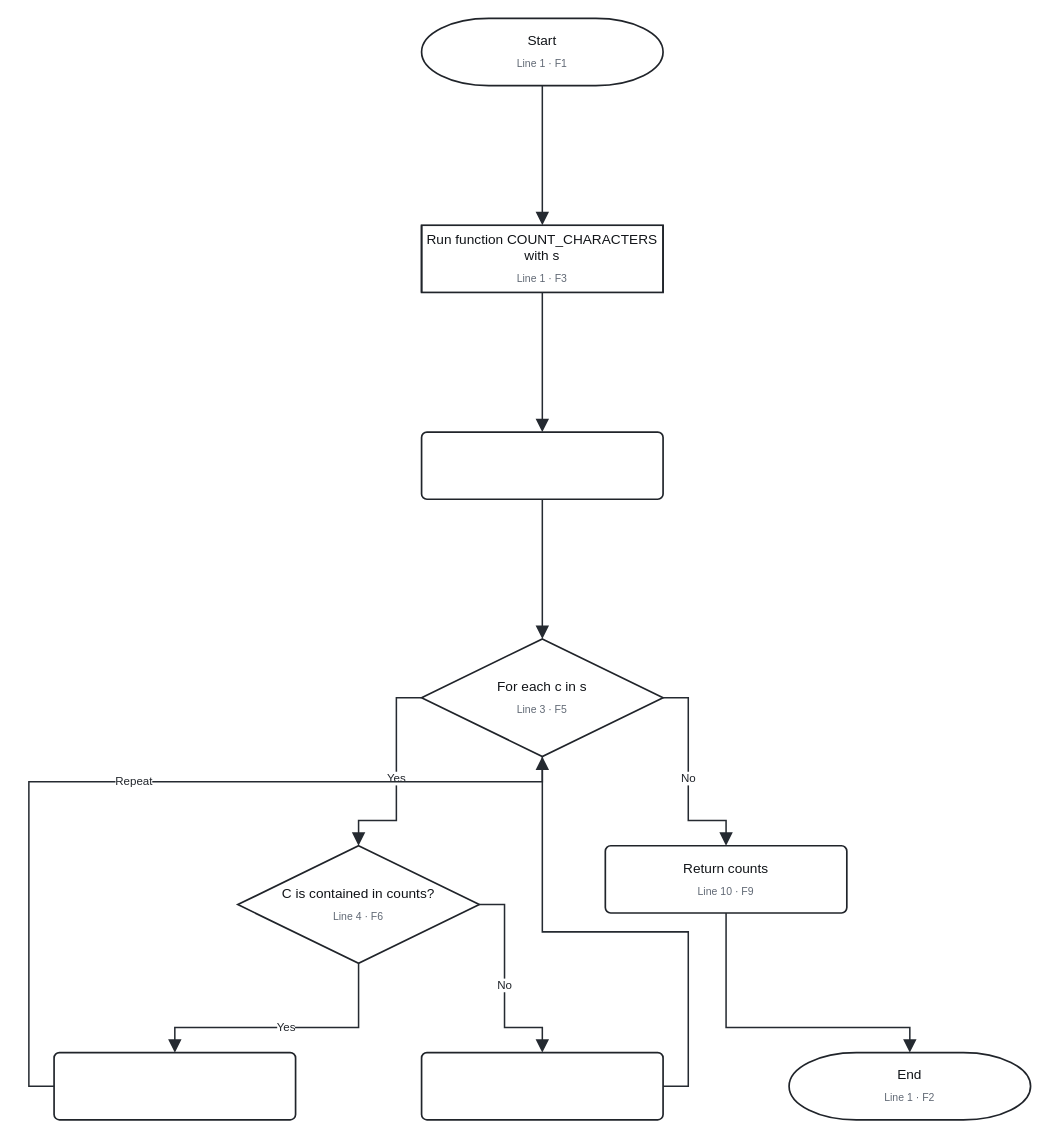
Image size: 1050x1139. Some labels were removed from this diagram. Here are the shapes that lost their labels. From the top down, the centre of each, then its label:
the point at 541,465: Set counts to an empty dictionary Line 2 · F4
the point at 174,1085: Set item c of counts to item c of counts plus 1 Line 5 · F7
the point at 541,1085: Set item c of counts to 1 Line 7 · F8
